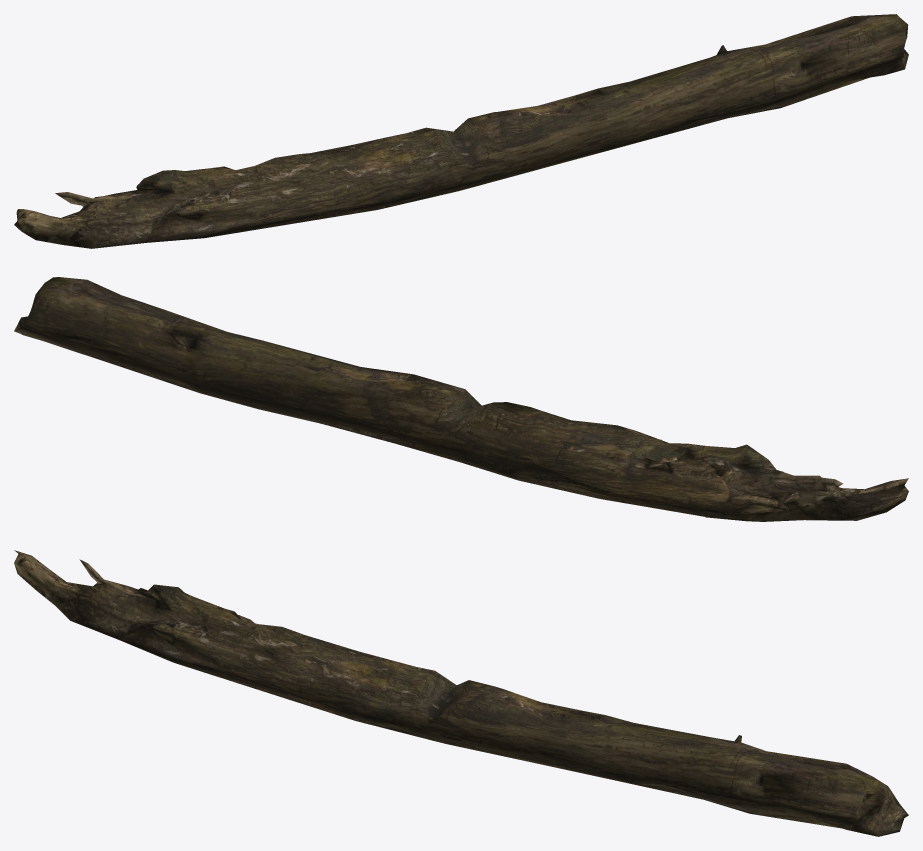
File: dead_tree_trunk.glb
3 renders of one model, top to bottom at view 1: azimuth 30°, elevation 25°; view 2: azimuth 150°, elevation 25°; view 3: azimuth 330°, elevation 25°, orthographic.
Parts seen in each view (by area): view 1: dead_tree_trunk; view 2: dead_tree_trunk; view 3: dead_tree_trunk.
Boxes of the visible parts, x1,y1,x2,y2 form: dead_tree_trunk: (14, 14, 908, 248); dead_tree_trunk: (14, 277, 908, 521); dead_tree_trunk: (14, 550, 908, 836).
Bounding box in the file's own units: 3.04 × 0.2847 × 0.268.
1 material, 1 textured.
